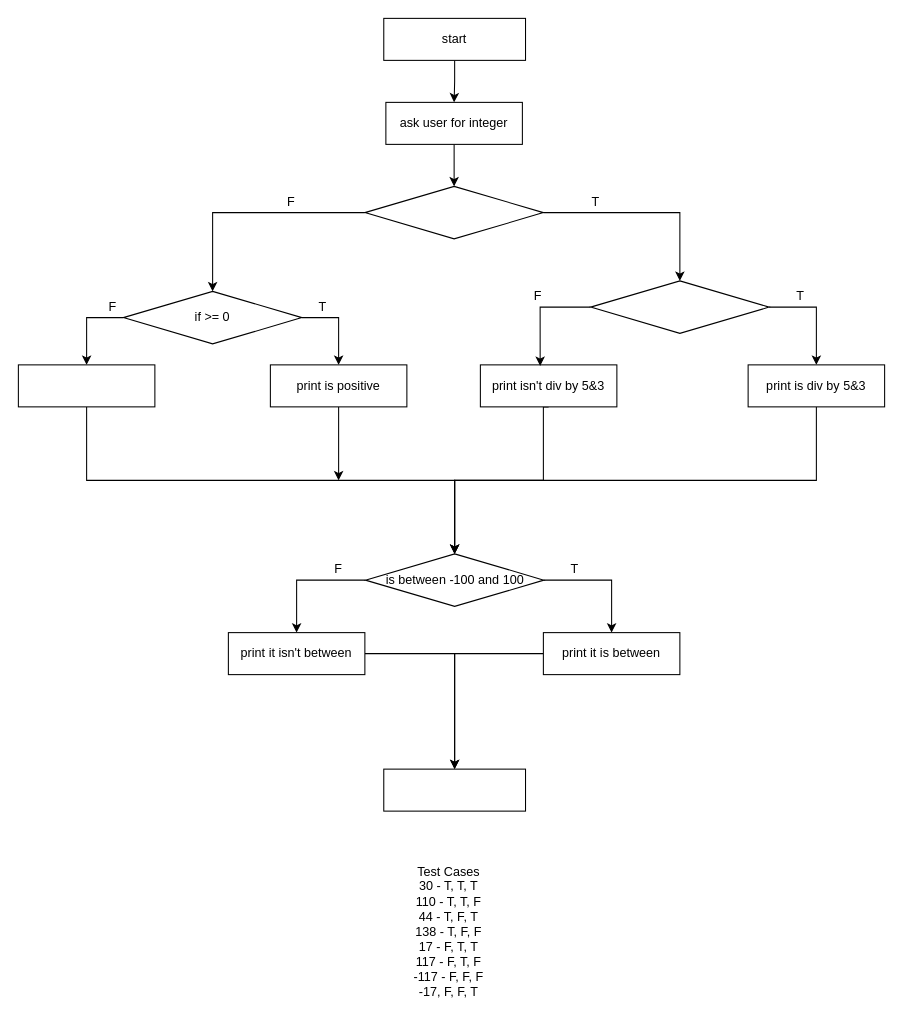
Some shapes in this 903 by 1024 pixel diagram are drawn without their labels. The shapes that lost their labels are listed below. From the top down, each one's box as (x1, y1, x2, y2) in pixels, then its label:
(364, 185, 543, 239): if integer is even
(590, 280, 769, 333): if divisible by 5 && 3
(17, 364, 155, 407): print is negative
(383, 768, 526, 811): end
